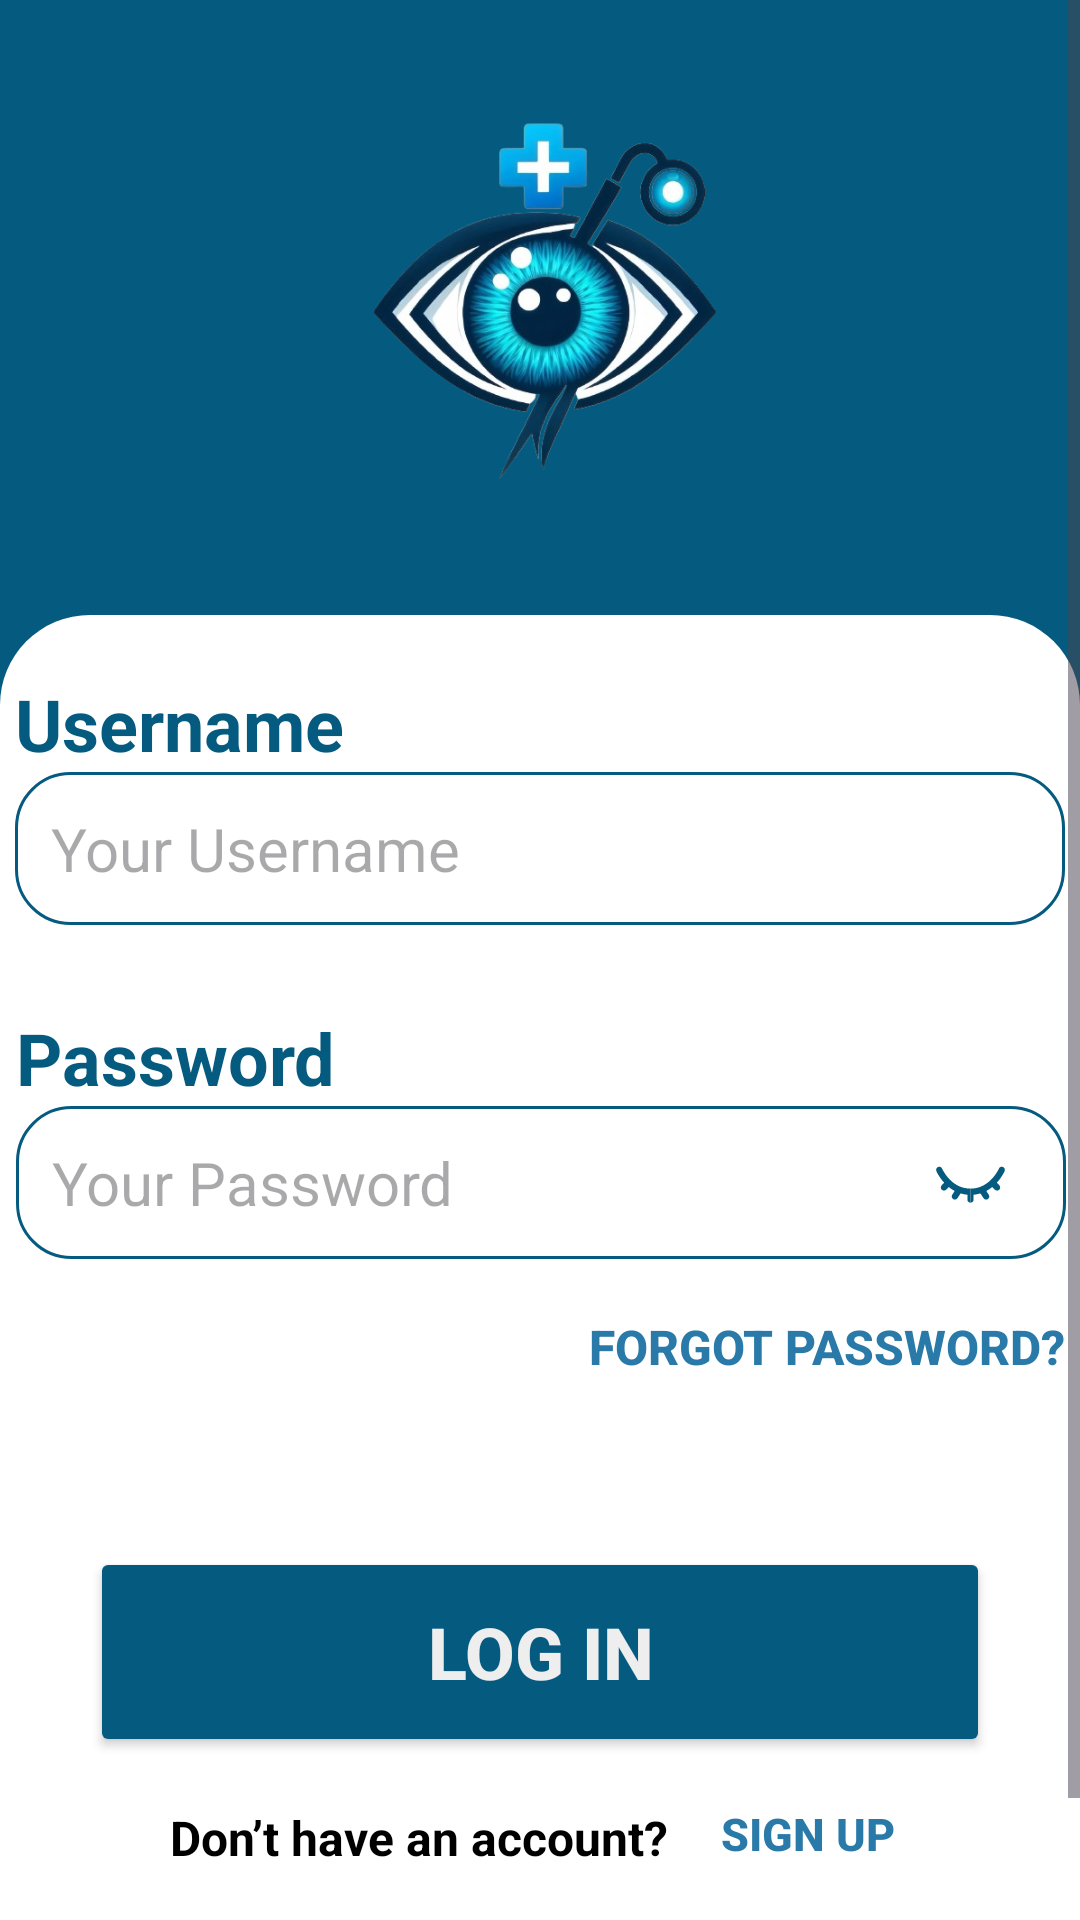

Icons on this 1080x1920 Android screen, each with the point to tap as (x=x, y=y):
hidden: (x=970, y=1184)
